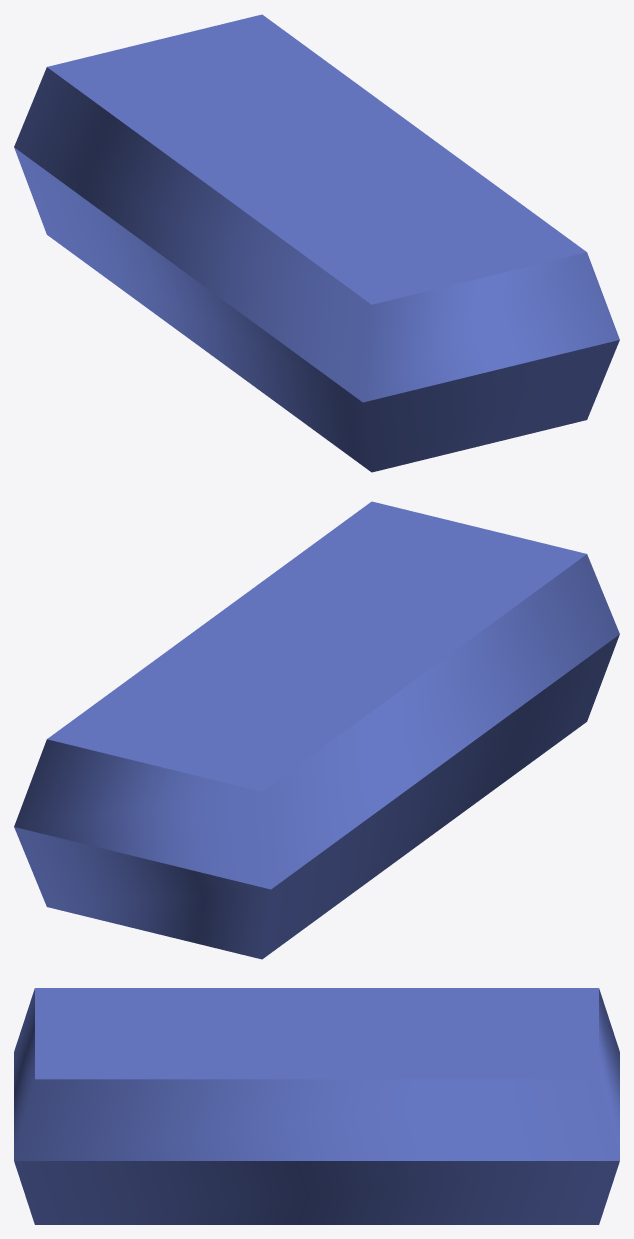
The model's file is minus.fbx.
3 views of the same model, one above another, from view 1: azimuth 30°, elevation 25°; view 2: azimuth 150°, elevation 25°; view 3: azimuth 270°, elevation 25° (orthographic). The views are drawn at different scales.
Parts seen in each view (by area): view 1: Text_002; view 2: Text_002; view 3: Text_002.
Boxes of the visible parts, x1,y1,x2,y2 form: Text_002: (14, 14, 619, 472); Text_002: (14, 501, 619, 959); Text_002: (14, 988, 619, 1224).
Size of the model in its own units: 0.1443 by 0.09 by 0.3393.
